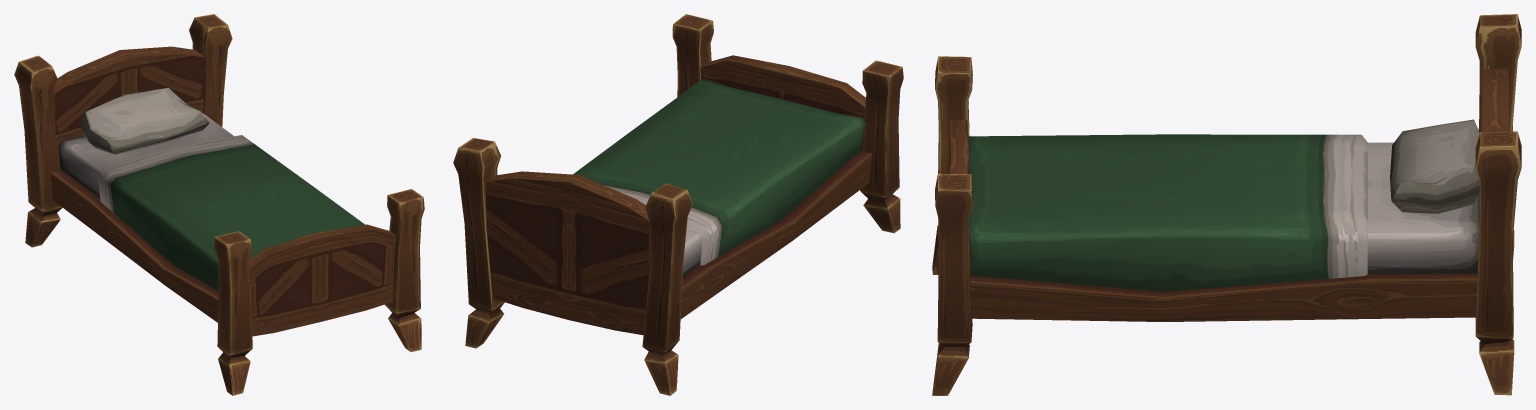
Rendered from SM_PROP_bed_interior_02.fbx.
3 renders of one model, left to right at view 1: azimuth 30°, elevation 25°; view 2: azimuth 150°, elevation 25°; view 3: azimuth 270°, elevation 25°, orthographic. The views are drawn at different scales.
Visible parts, largest first — view 1: SM_PROP_bed_interior_02; view 2: SM_PROP_bed_interior_02; view 3: SM_PROP_bed_interior_02.
Boxes of the visible parts, x1,y1,x2,y2 form: SM_PROP_bed_interior_02: [14, 14, 424, 395]; SM_PROP_bed_interior_02: [453, 14, 903, 395]; SM_PROP_bed_interior_02: [932, 14, 1521, 395].
Bounding box in the file's own units: 131 × 113 × 238.
